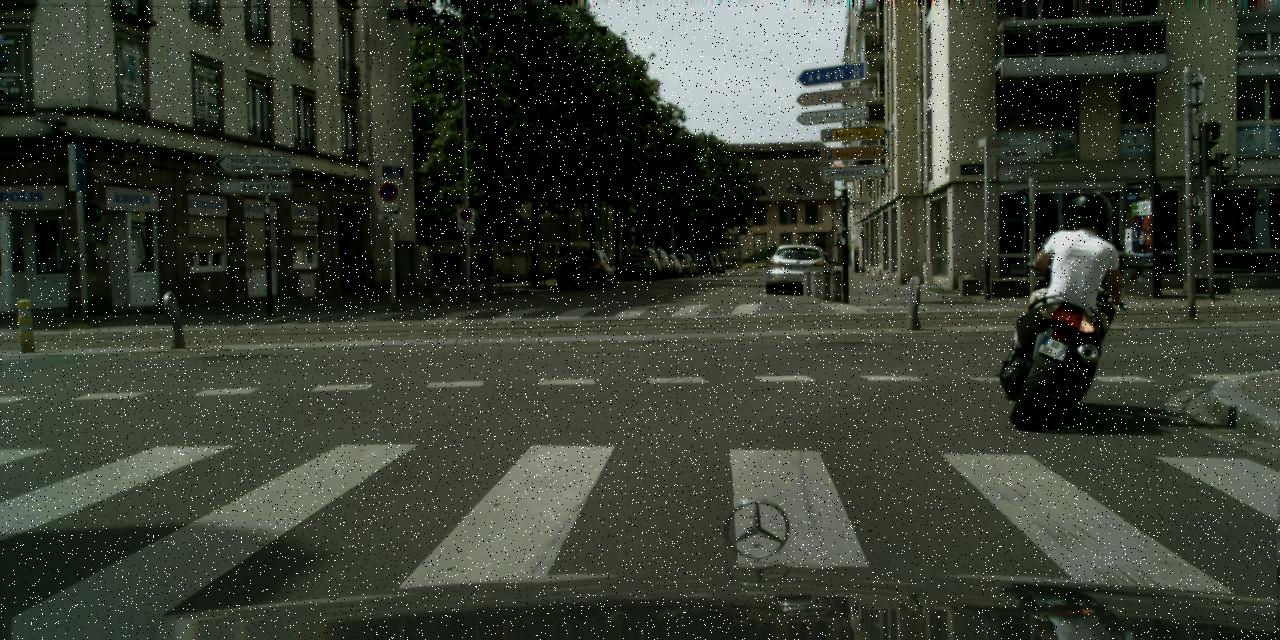ped: (1036, 191, 1111, 374)
